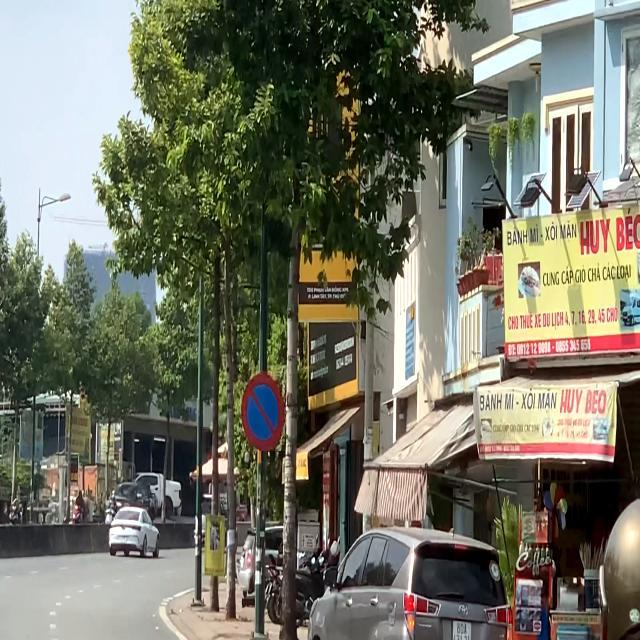P-131a: (241, 371, 285, 451)
